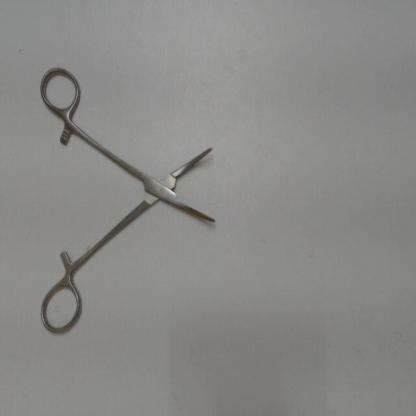Crile Artery Forceps: (33, 58, 230, 339)
